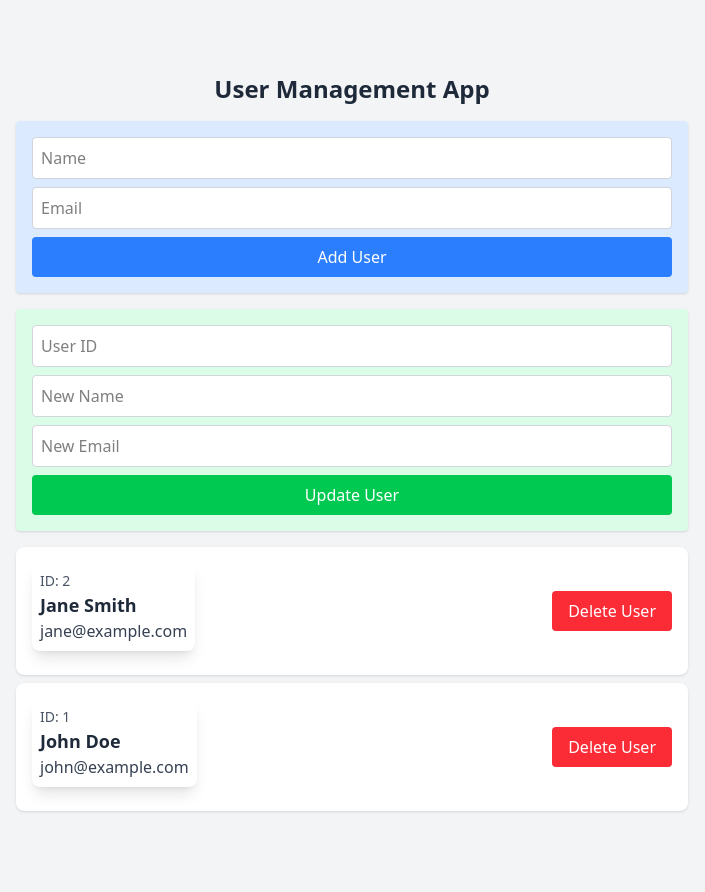
Test: Home Component › Creating Users › should create a new user
The width and height of the screenshot is (705, 892).
Expected: the text "John Doe" is shown, [40, 729, 120, 753]
Type "New User" into the field with placeholder "Name" at [352, 158], box [32, 137, 672, 179]
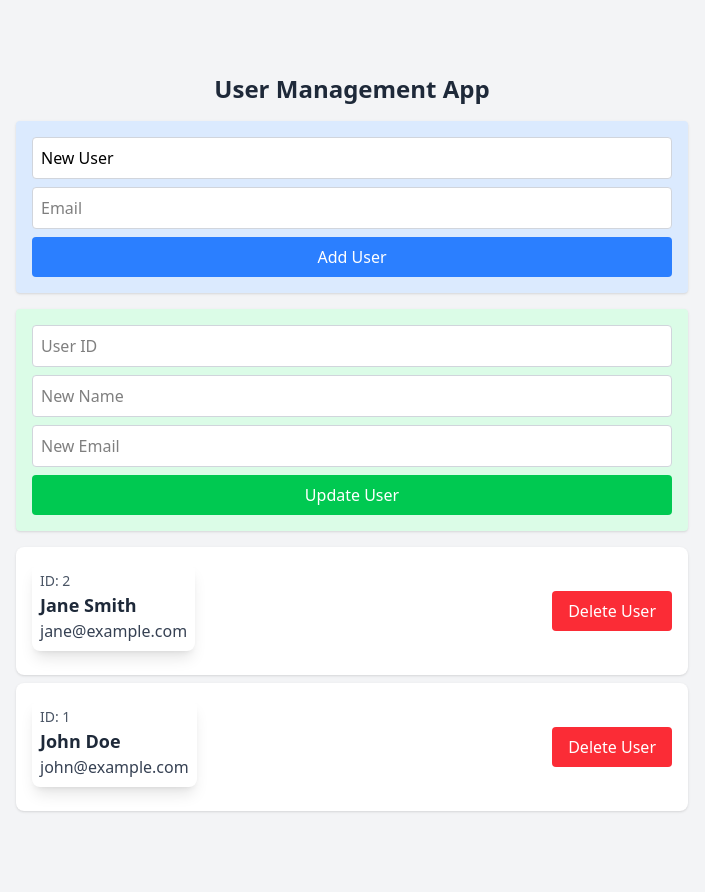
Type "newuser@example.com" into the field with placeholder "Email" at [352, 208], box [32, 187, 672, 229]
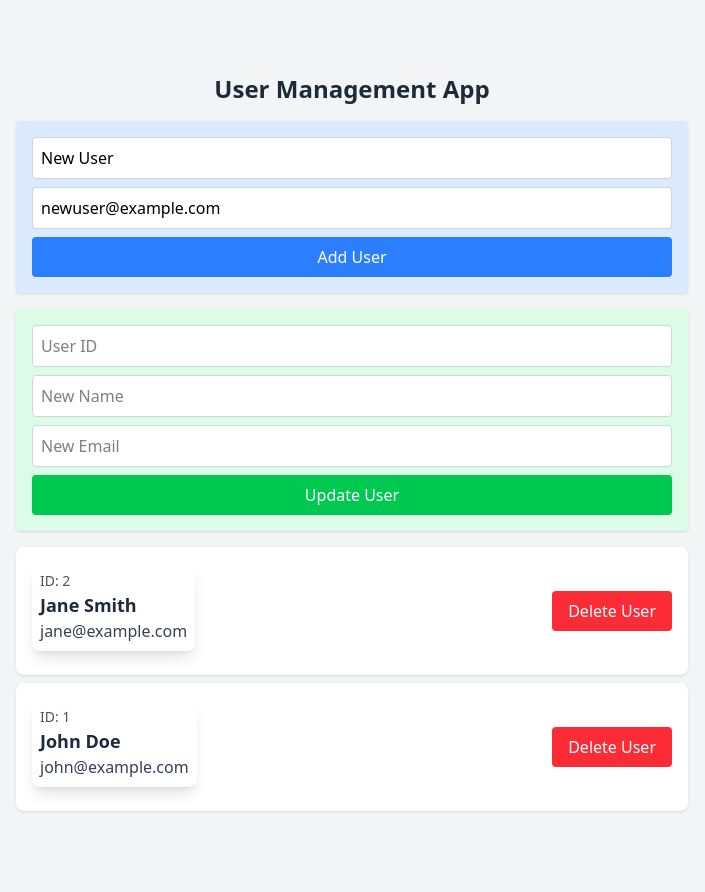
Click the button "Add User" at [352, 257], box [32, 237, 672, 277]
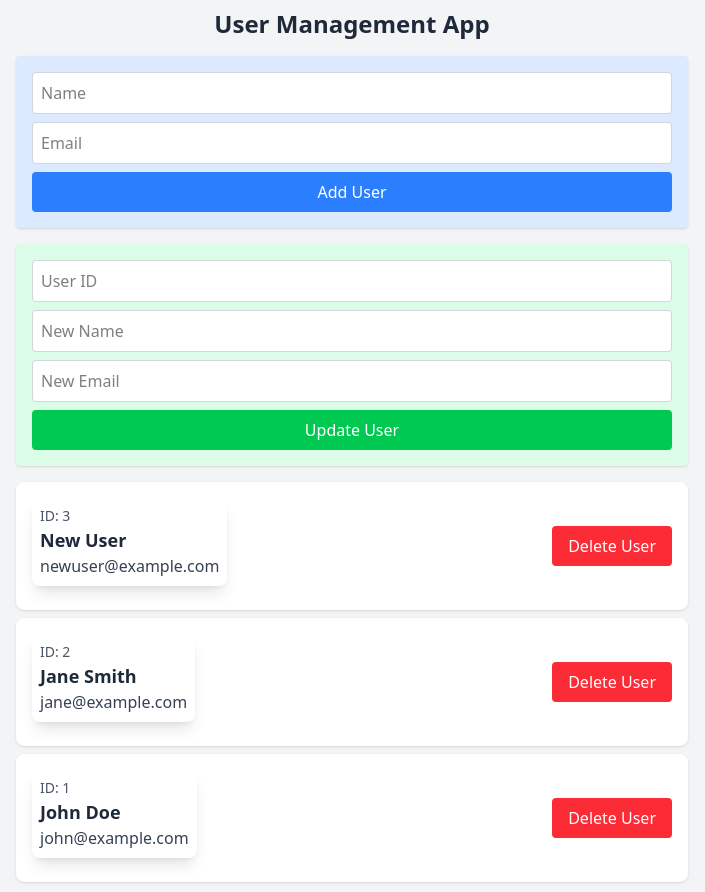
Expected: the text "New User" is shown, [40, 528, 126, 552]
Expected: the field with placeholder "Name" is empty, [32, 72, 672, 114]
Expected: the field with placeholder "Email" is empty, [32, 122, 672, 164]
